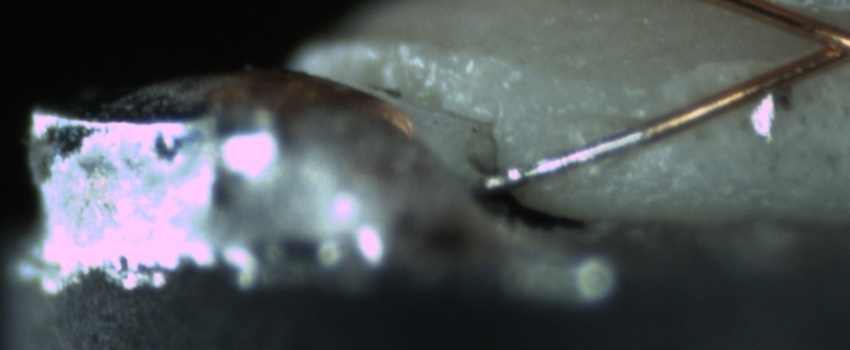CL: (791, 12, 850, 76)
DL: (531, 87, 666, 147)
TS: (482, 121, 643, 191)
